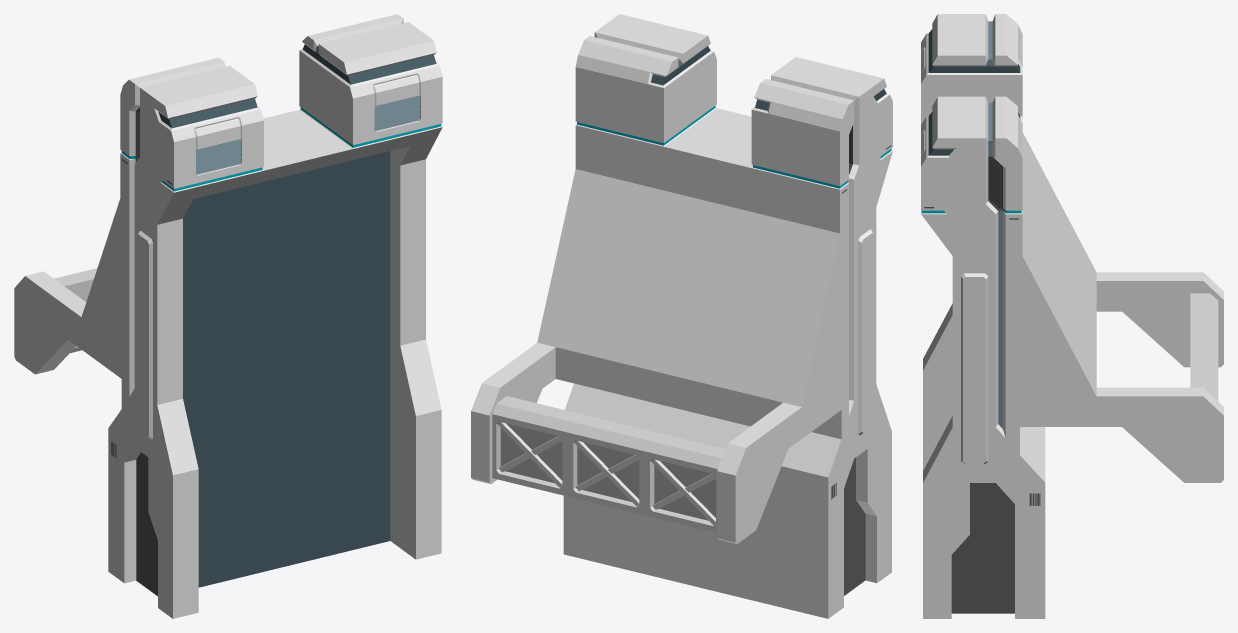
File: space_station_001.fbx
The picture shows the model from 3 angles, left to right: view 1: azimuth 30°, elevation 25°; view 2: azimuth 150°, elevation 25°; view 3: azimuth 270°, elevation 25°; orthographic projection. The views are drawn at different scales.
Parts seen in each view (by area): view 1: space_station_001; view 2: space_station_001; view 3: space_station_001.
Boxes of the visible parts, <box> form: space_station_001: <box>14,14,442,618</box>; space_station_001: <box>471,14,892,618</box>; space_station_001: <box>921,14,1223,618</box>.
Bounding box in the file's own units: 2169 × 2185 × 3827.
